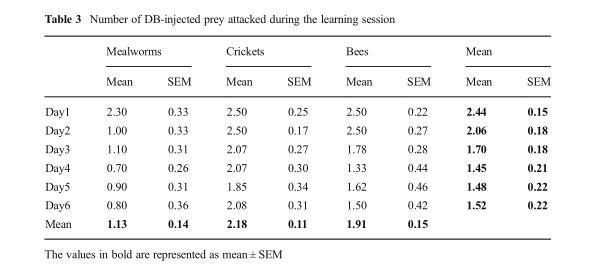table: (44, 43, 550, 229)
table column: (207, 43, 269, 229), (88, 43, 149, 229), (327, 43, 388, 229), (447, 43, 508, 229), (388, 43, 447, 229), (149, 43, 207, 229), (269, 43, 327, 229), (44, 43, 88, 229), (508, 43, 550, 229)
table column header: (44, 43, 550, 95)
table row: (44, 65, 550, 95), (44, 95, 550, 120), (44, 43, 550, 65), (44, 138, 550, 157), (44, 157, 550, 176), (44, 194, 550, 213), (44, 120, 550, 138), (44, 176, 550, 194), (44, 213, 550, 229)
table spanning cell: (207, 43, 327, 65), (327, 43, 447, 65), (88, 43, 207, 65), (447, 43, 550, 65)
